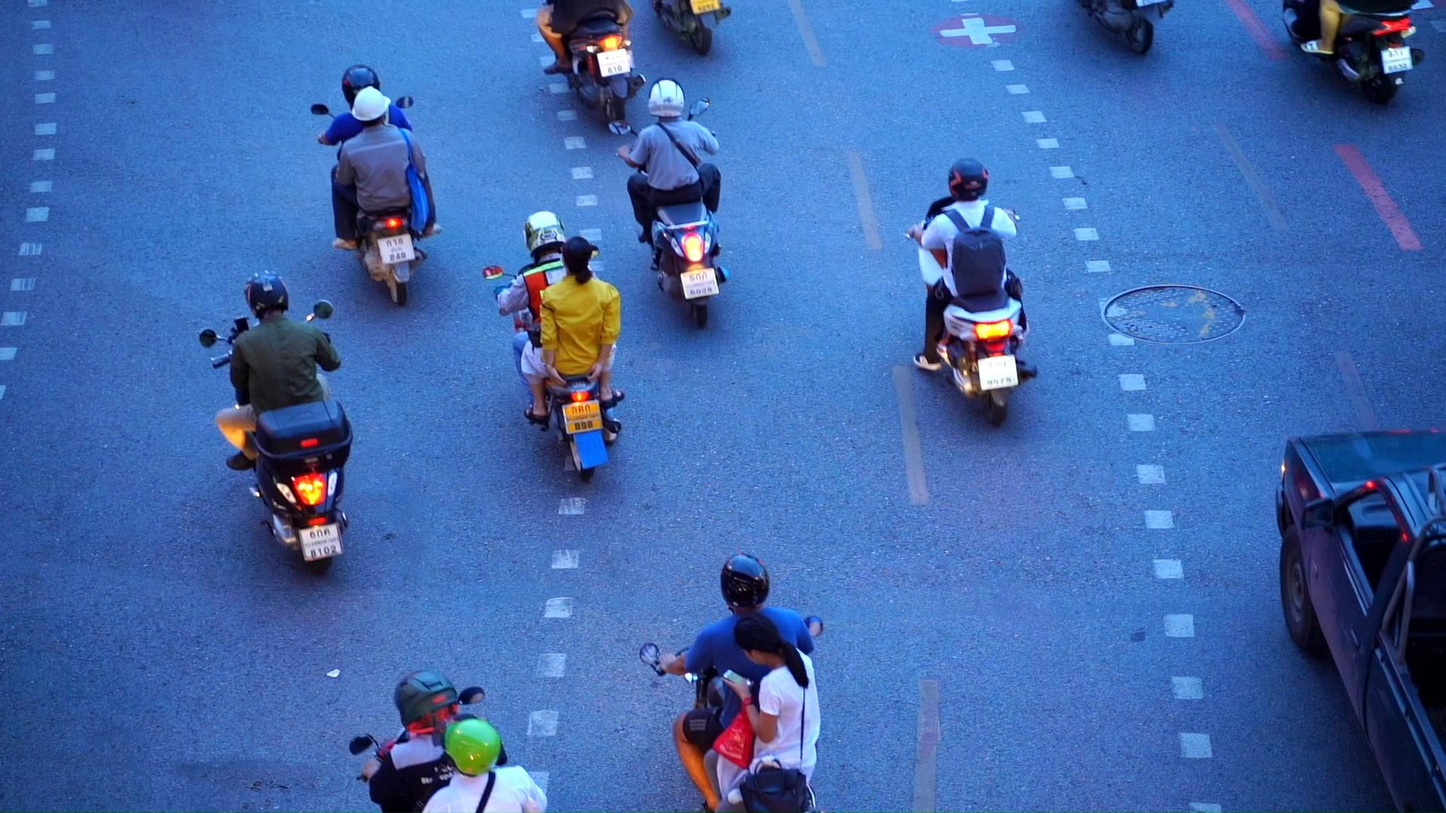driver: (641, 552, 823, 813), (199, 270, 354, 576), (482, 209, 625, 481), (902, 158, 1038, 428), (312, 65, 443, 307), (609, 76, 732, 329), (348, 668, 547, 813), (1281, 0, 1425, 104), (536, 0, 648, 122)
helmet: (431, 712, 501, 778), (394, 668, 459, 735), (720, 553, 770, 610), (243, 270, 289, 320), (523, 210, 567, 260), (342, 64, 380, 112), (948, 158, 988, 201), (351, 86, 392, 126), (648, 77, 685, 118)
no-helmet: (734, 613, 808, 669), (560, 236, 593, 285)
